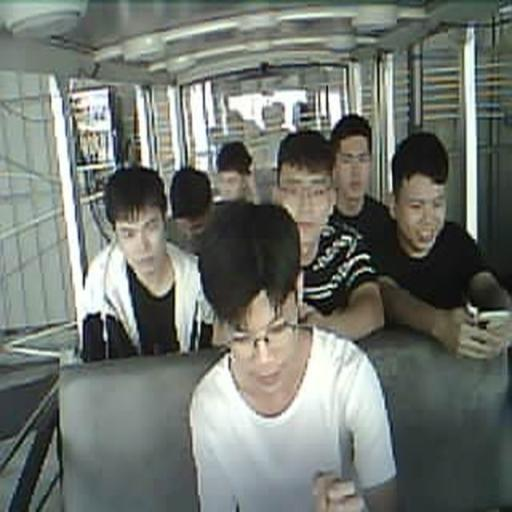persona: (188, 198, 398, 511), (374, 130, 512, 361), (78, 164, 220, 362), (270, 128, 386, 342), (326, 113, 399, 271), (166, 166, 213, 256), (211, 140, 257, 205)
